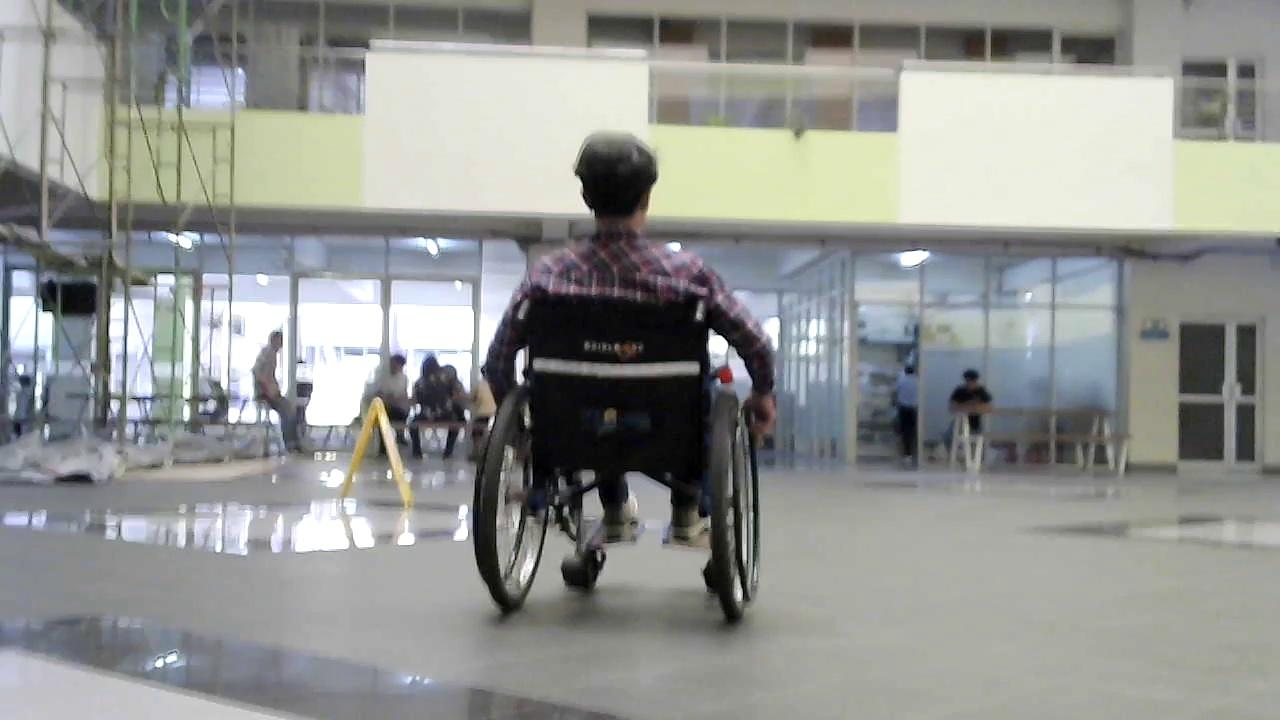person: (479, 130, 779, 560), (251, 329, 293, 463), (947, 368, 993, 470), (892, 355, 921, 467)
wheelchair: (447, 277, 788, 642)
